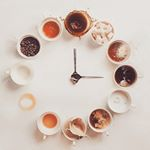cups: (111, 63, 147, 90), (86, 106, 114, 140), (35, 110, 63, 143), (4, 61, 38, 88), (63, 113, 87, 147)
